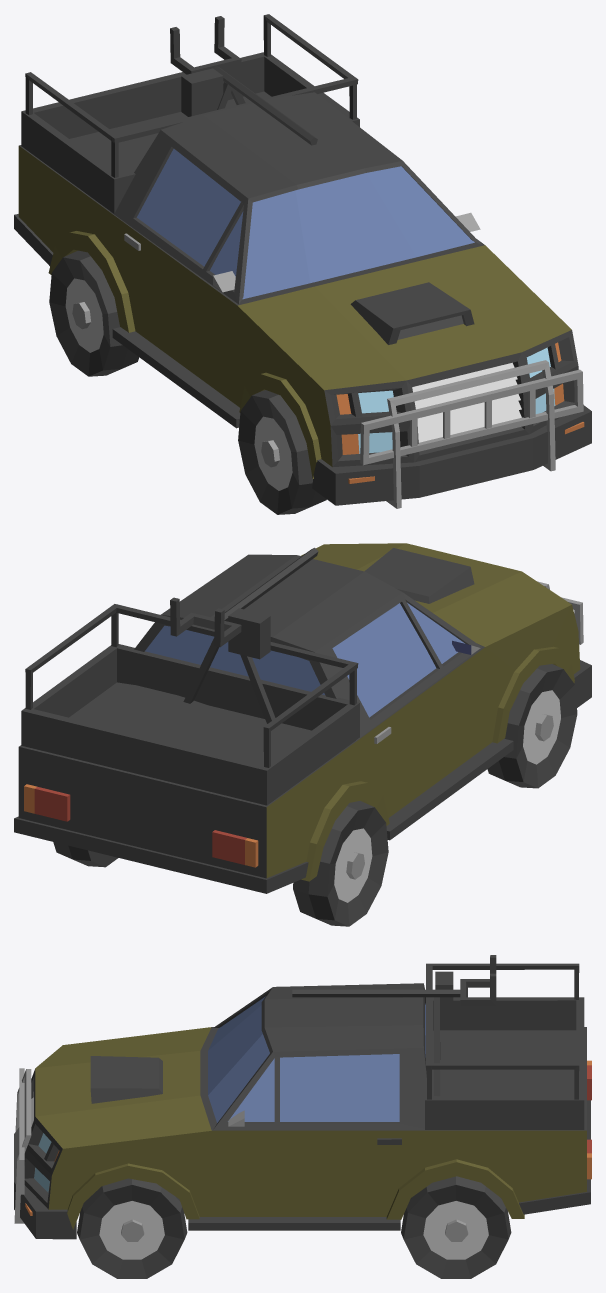
File: transport_purpose_009.fbx
3 renders of one model, top to bottom at view 1: azimuth 30°, elevation 25°; view 2: azimuth 150°, elevation 25°; view 3: azimuth 270°, elevation 25°, orthographic. The views are drawn at different scales.
Visible parts, largest first — view 1: transport_purpose_009; view 2: transport_purpose_009; view 3: transport_purpose_009.
Boxes of the visible parts, <box> form: transport_purpose_009: <box>14,14,591,514</box>; transport_purpose_009: <box>14,543,591,926</box>; transport_purpose_009: <box>14,955,591,1278</box>.
Size of the model in its own units: 176 by 181 by 368.
